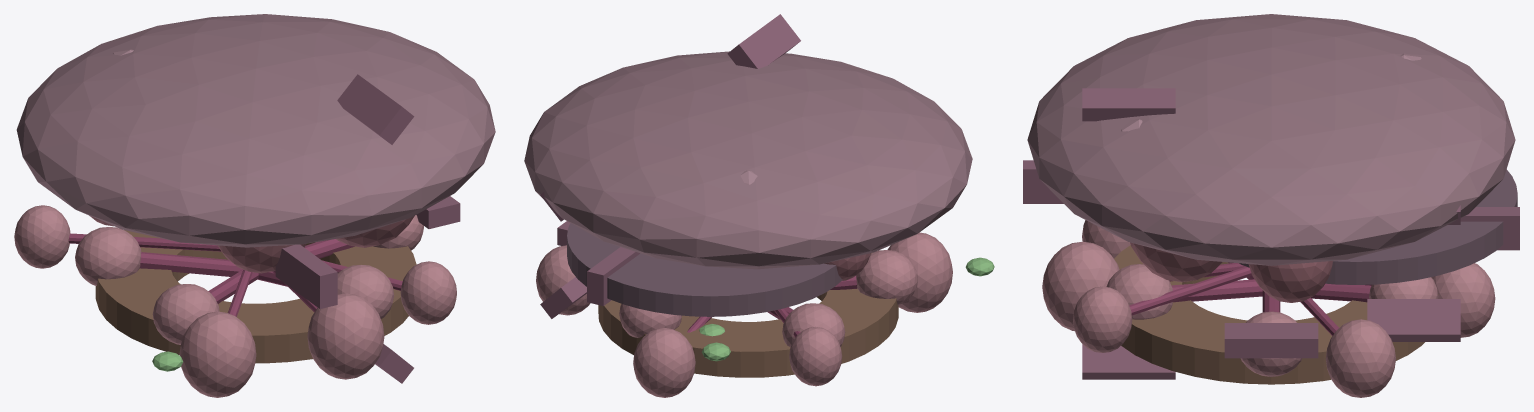
Rendered from zglengo_evolution_pit.glb.
3 renders of one model, left to right at view 1: azimuth 30°, elevation 25°; view 2: azimuth 150°, elevation 25°; view 3: azimuth 270°, elevation 25°, orthographic. The views are drawn at different scales.
Visible parts, largest first — view 1: base_mound, pit_lip, bubo_2, bubo_5, mutation_pod_3, bubo_3, bubo_0, lobe_2, lobe_1, mutation_pod_2, mutation_pod_1, mutation_vein_3 (+10 smaller); view 2: base_mound, pit_rim, pit_lip, bubo_4, bubo_2, mutation_pod_2, bubo_0, lobe_1, bubo_1, mutation_pod_3, lobe_6, mutation_pod_4 (+4 smaller); view 3: base_mound, pit_lip, pit_rim, bubo_1, bubo_5, lobe_7, lobe_4, bubo_3, lobe_1, bubo_4, breathe_sac_1, lobe_3 (+11 smaller).
Part boxes in pixels (x1,y1,x2,y2): base_mound: (16,14,495,247); pit_lip: (95,230,416,363); bubo_2: (179,311,256,397); bubo_5: (307,293,384,379); mutation_pod_3: (75,227,141,285); bubo_3: (400,261,456,324); bubo_0: (14,205,70,268); lobe_2: (275,244,337,308); lobe_1: (337,74,414,144); mutation_pod_2: (152,284,219,344); mutation_pod_1: (337,265,394,318); mutation_vein_3: (140,252,242,276); base_mound: (524,51,972,269); pit_rim: (567,223,842,316); pit_lip: (598,252,898,377); bubo_4: (633,327,695,397); bubo_2: (887,232,952,312); mutation_pod_2: (856,250,917,305); bubo_0: (789,326,842,386); lobe_1: (727,14,800,68); bubo_1: (536,245,590,315); mutation_pod_3: (782,303,845,346); lobe_6: (587,247,639,305); mutation_pod_4: (619,304,681,337); base_mound: (1027,14,1515,265); pit_lip: (1114,245,1438,384); pit_rim: (1239,169,1517,284); bubo_1: (1325,319,1395,397); bubo_5: (1042,241,1119,331); lobe_7: (1367,299,1460,341); lobe_4: (1224,323,1318,358); bubo_3: (1073,286,1132,352); lobe_1: (1082,88,1175,121); bubo_4: (1431,263,1495,337); breathe_sac_1: (1248,261,1332,302); lobe_3: (1082,344,1175,379).
Size of the model in its own units: 2.4 by 1.52 by 2.34.
